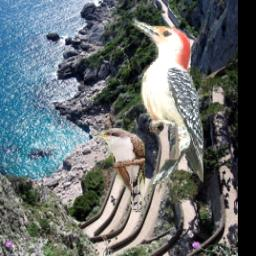Cuckoo: (96, 129, 146, 213)
Woodpecker: (129, 19, 204, 195)
